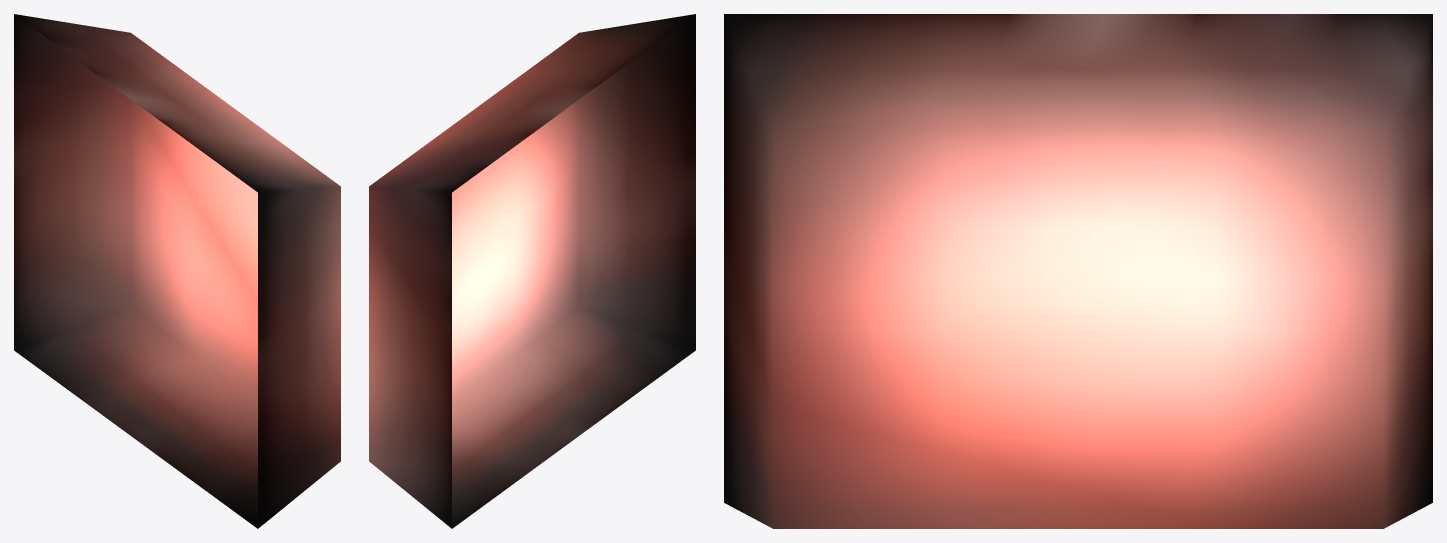
The model's file is generator_habitat_button.DAE.
3 views of the same model, side by side, from view 1: azimuth 30°, elevation 25°; view 2: azimuth 150°, elevation 25°; view 3: azimuth 270°, elevation 25° (orthographic). The views are drawn at different scales.
Parts seen in each view (by area): view 1: generator_habitat_button; view 2: generator_habitat_button; view 3: generator_habitat_button.
Boxes of the visible parts, left/top/right/bottom form: generator_habitat_button: left=14, top=14, right=340, bottom=528; generator_habitat_button: left=369, top=14, right=695, bottom=528; generator_habitat_button: left=724, top=14, right=1432, bottom=528.
Bounding box in the file's own units: 2.47 × 10.43 × 7.93.
